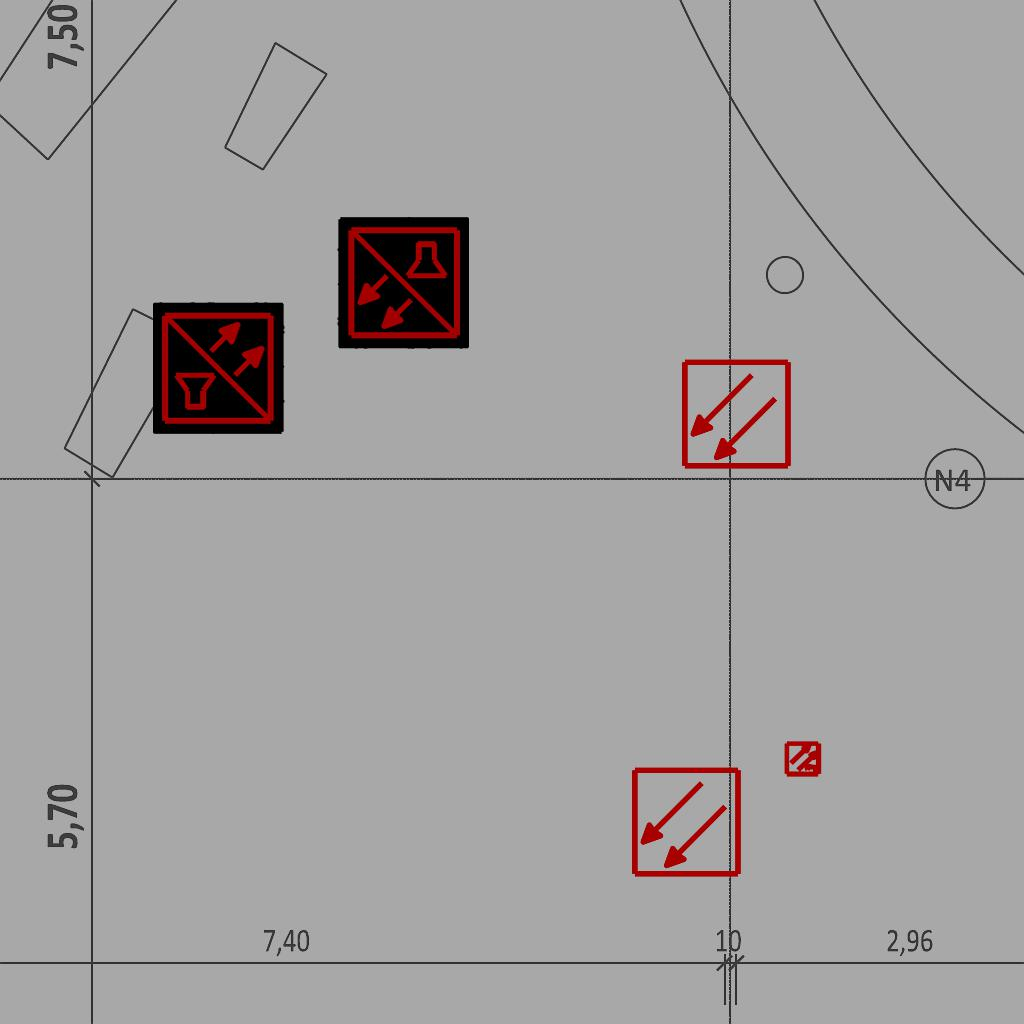OKW_Multisensormelder_(Kombination_optischer_Rauch-Kahlenmonoxid_Waerme-Melder): (337, 217, 469, 349), (153, 302, 285, 434)
OT_Multisensormelder_(Kombination_RMO_WMD): (776, 731, 832, 787)
RMO_Rauchmelder_optischer: (680, 358, 793, 471), (630, 766, 743, 879)
